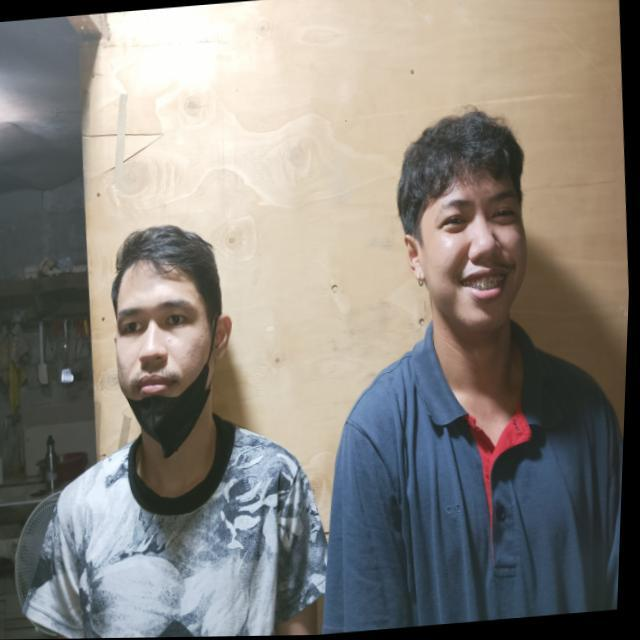Nonhelmet: (100, 214, 238, 453), (393, 106, 532, 335)
